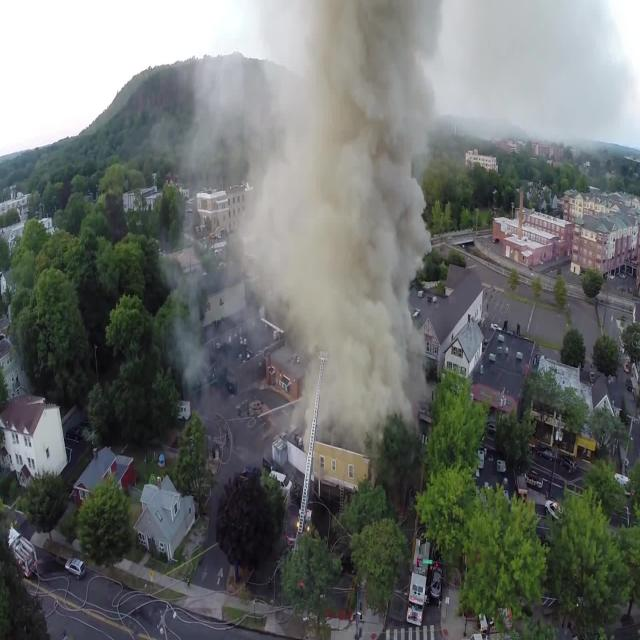smoke: (288, 9, 410, 437)
